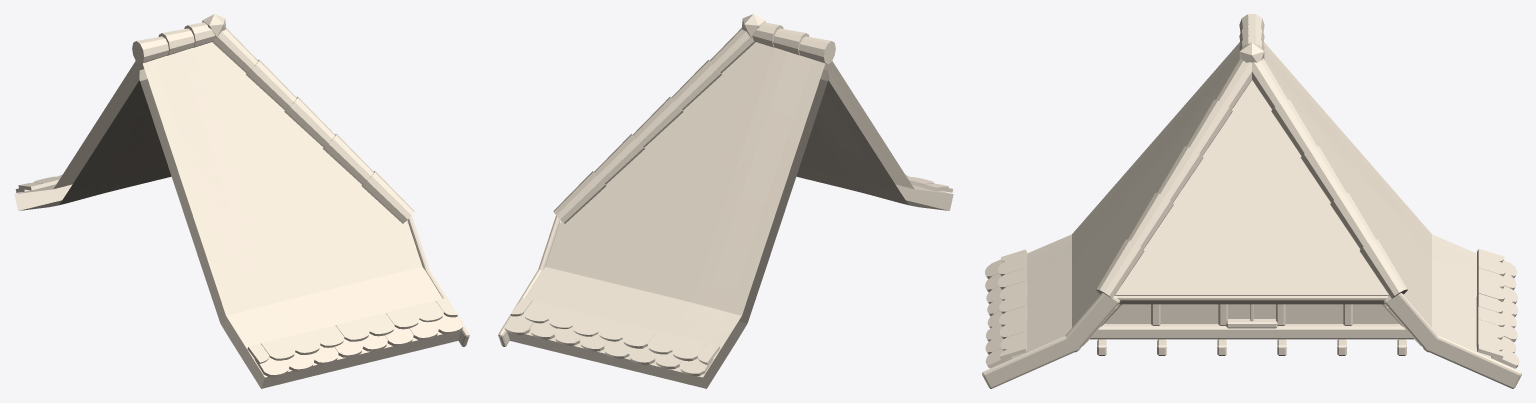
The model's file is SM_VK_Roof_HalfHip.fbx.
The picture shows the model from 3 angles, left to right: view 1: azimuth 30°, elevation 25°; view 2: azimuth 150°, elevation 25°; view 3: azimuth 270°, elevation 25°; orthographic projection. The views are drawn at different scales.
Parts seen in each view (by area): view 1: SM_VK_Roof_HalfHip.001; view 2: SM_VK_Roof_HalfHip.001; view 3: SM_VK_Roof_HalfHip.001.
Part boxes in pixels (<box>): SM_VK_Roof_HalfHip.001: <box>14,14,469,388</box>; SM_VK_Roof_HalfHip.001: <box>498,14,953,388</box>; SM_VK_Roof_HalfHip.001: <box>982,14,1521,388</box>.
Size of the model in its own units: 4.12 by 5.2 by 8.99.
